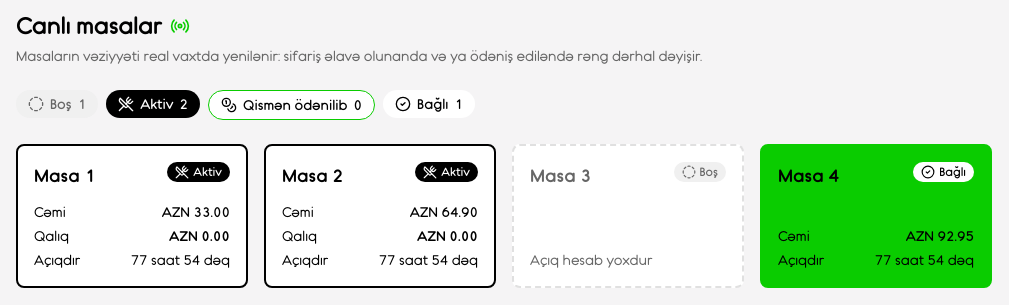
Test case: LiveTablesPage status filter › shows only the tables of the pressed status, and all again on a second press
Expected: the heading "Masa 1" is shown, [34, 162, 95, 190]
Click the button "Aktiv 2" at [153, 104], box [106, 90, 200, 118]
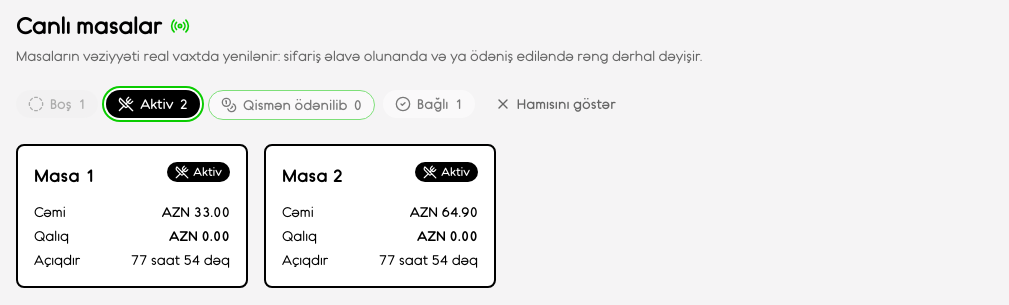
Expected: the heading "Masa 1" is shown, [34, 162, 95, 190]
Now the heading "Masa 3" is gone
Now the heading "Masa 4" is gone
Click the button "Aktiv 2" at [153, 104], box [106, 90, 200, 118]
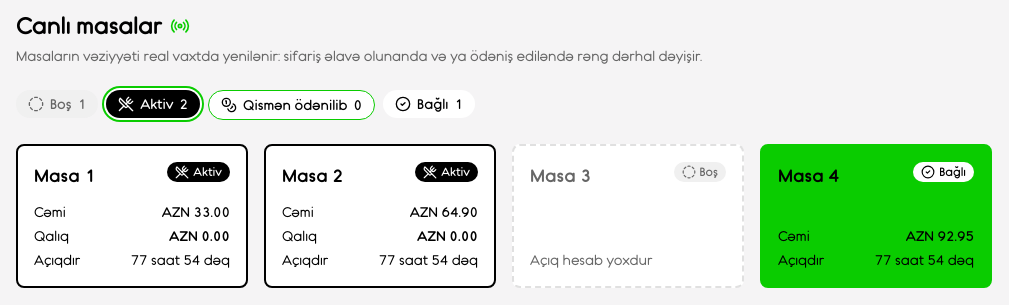
Now the heading "Masa 4" is shown, box [778, 162, 839, 190]
